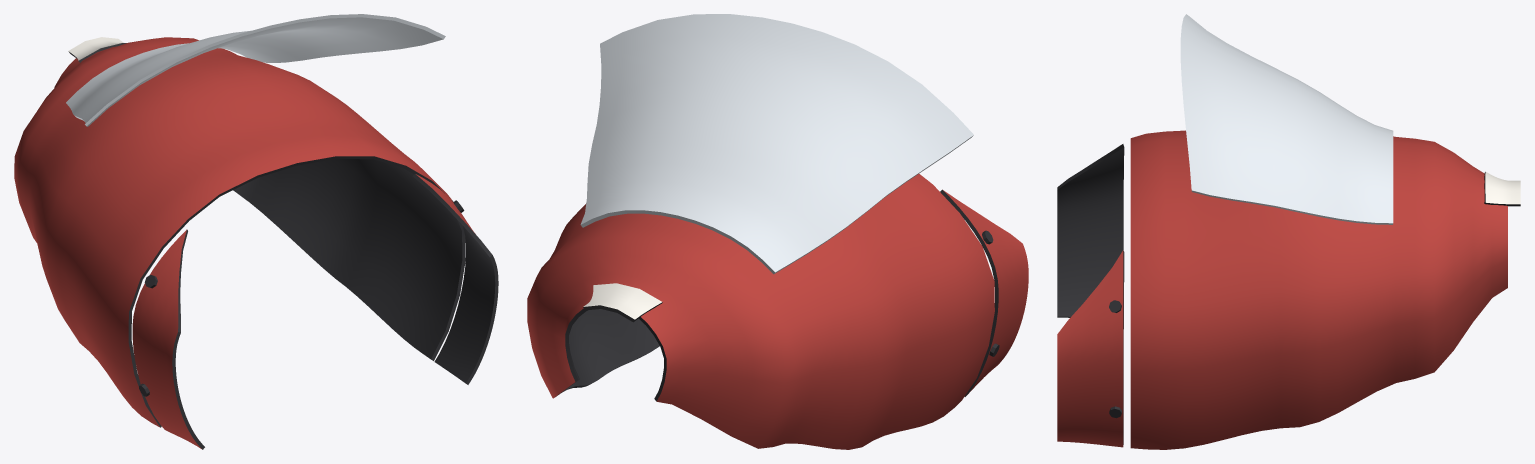
File: seeley.glb
3 renders of one model, left to right at view 1: azimuth 30°, elevation 25°; view 2: azimuth 150°, elevation 25°; view 3: azimuth 270°, elevation 25°, orthographic. The views are drawn at different scales.
Visible parts, largest first — view 1: lod0; view 2: lod0; view 3: lod0.
Boxes of the visible parts, x1,y1,x2,y2 form: lod0: (14, 14, 498, 449); lod0: (527, 14, 1028, 449); lod0: (1057, 14, 1520, 449).
Size of what is drawn, in the model's own units: 0.436 by 0.4052 by 0.506.
